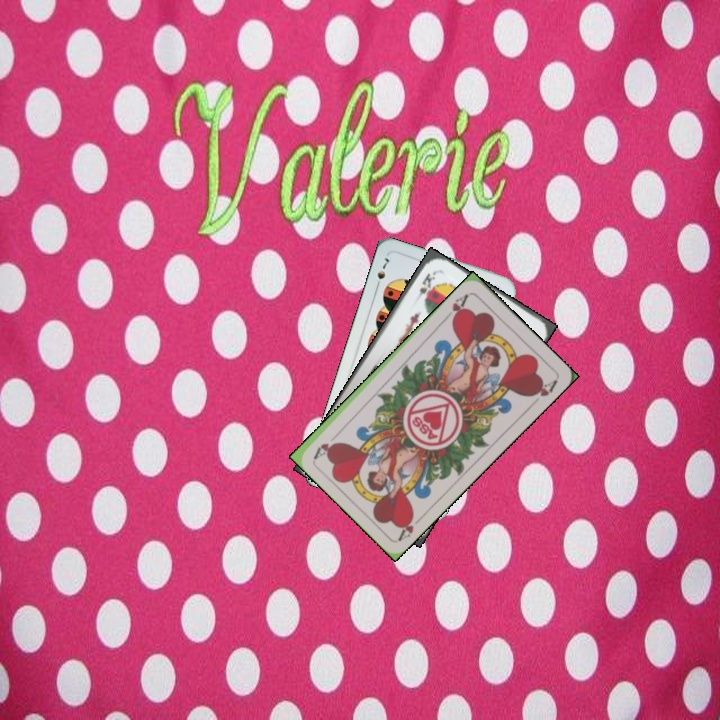HA: (441, 290, 471, 325), (394, 509, 416, 543)
S7: (372, 253, 394, 291)
SK: (411, 268, 439, 304)
